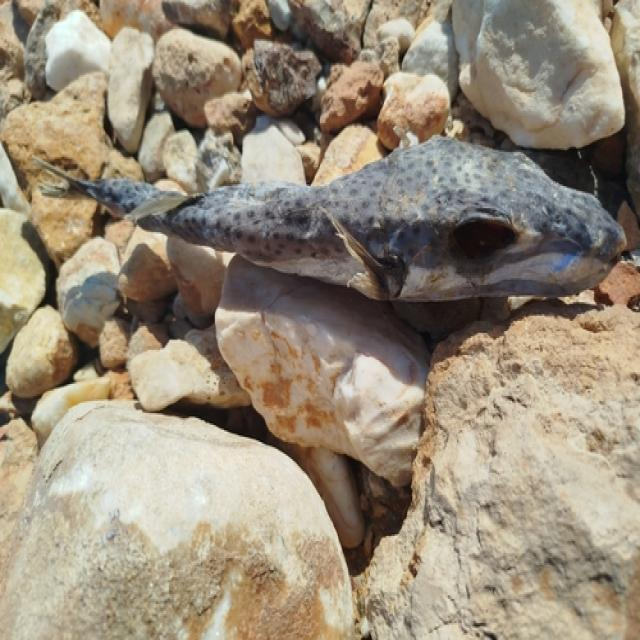Balik: (40, 137, 624, 300)
